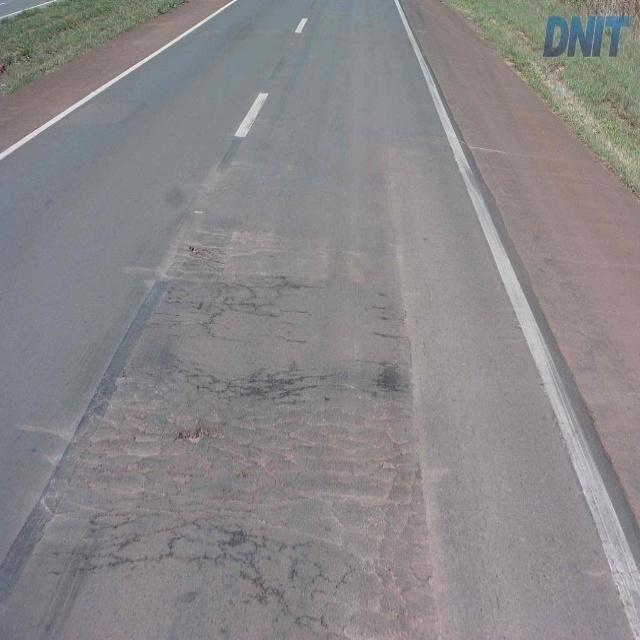pothole: (174, 419, 218, 449)
